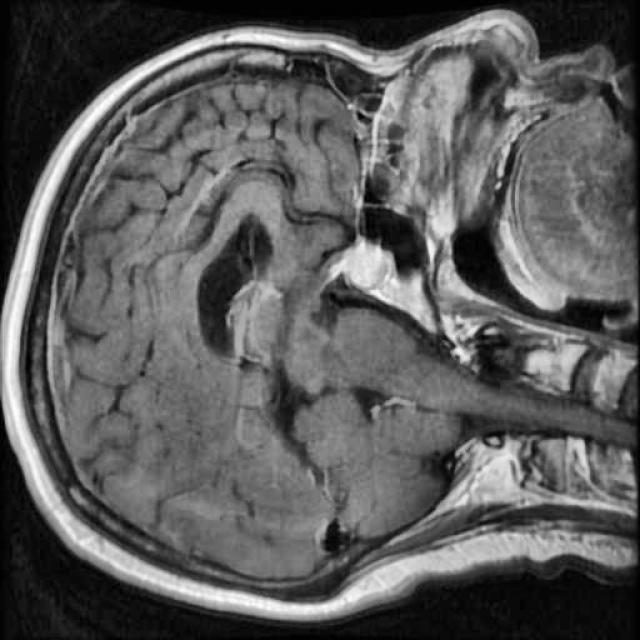Tumor: (332, 235, 400, 300)
